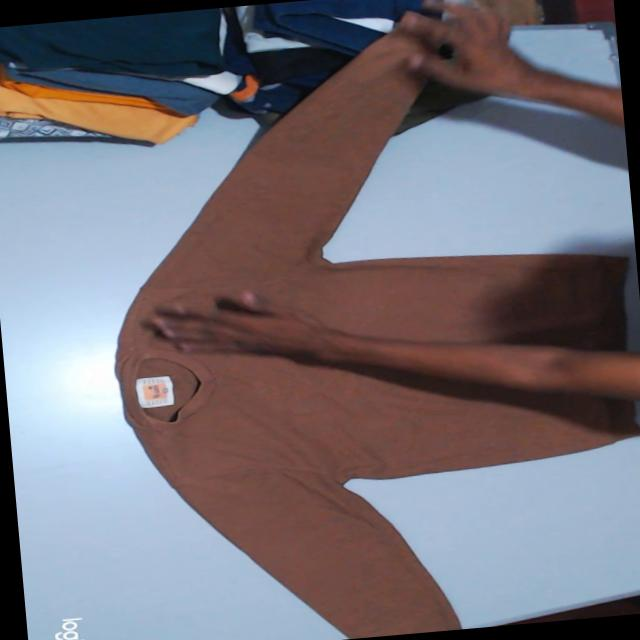new-garment: (116, 37, 640, 638)
